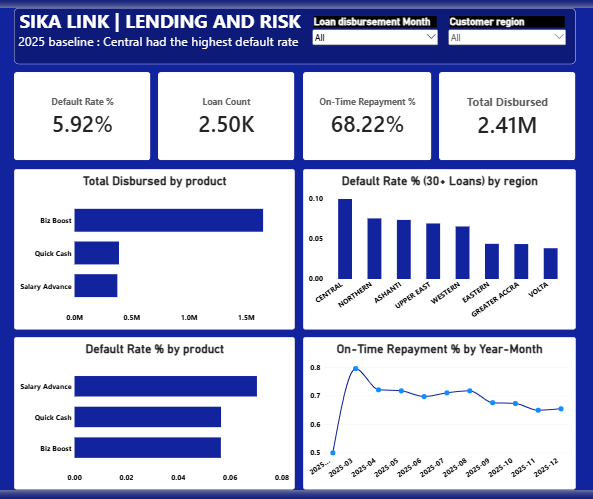

Layout of this report page (visuals, bound fields, positions):
{"tool":"powerbi","page":{"name":"LENDING AND RISK","canvas":[2560,1440],"ordinal":1},"visuals":[{"type":"cardVisual","fields":{"Data":["SikaLink_Measures.Default Rate %"]},"box":[360,192,408,264],"z":0,"group":"g1"},{"type":"cardVisual","fields":{"Data":["SikaLink_Measures.Total Disbursed"]},"box":[1632,192,408,264],"z":1000,"group":"g1"},{"type":"cardVisual","fields":{"Data":["SikaLink_Measures.On-Time Repayment %"]},"box":[1224,192,384,264],"z":2000,"group":"g1"},{"type":"cardVisual","fields":{"Data":["SikaLink_Measures.Loan Count"]},"box":[792,192,408,264],"z":3000,"group":"g1"},{"type":"barChart","fields":{"Category":["loans.product"],"Y":["SikaLink_Measures.Total Disbursed"]},"box":[360,480,840,480],"z":4000,"group":"g1"},{"type":"clusteredColumnChart","fields":{"Category":["customers.region"],"Y":["SikaLink_Measures.Default Rate % (30+ Loans)"]},"box":[1224,480,816,480],"z":5000,"group":"g1"},{"type":"barChart","fields":{"Category":["loans.product"],"Y":["SikaLink_Measures.Default Rate %"]},"box":[360,984,840,456],"z":6000,"group":"g1"},{"type":"lineChart","fields":{"Category":["RepaymentCalendar.Year-Month"],"Y":["SikaLink_Measures.On-Time Repayment %"]},"box":[1224,984,816,456],"z":7000,"group":"g1"},{"type":"group","id":"g1","title":"Group 1","box":[360,0,1680,1440],"z":9002},{"type":"textbox","box":[360,0,1680,168],"z":10000,"group":"g1"},{"type":"slicer","fields":{"Values":["Calendar.Year-Month"]},"box":[1248,24,384,120],"z":10500,"group":"g1"},{"type":"slicer","fields":{"Values":["customers.region"]},"box":[1656,24,360,120],"z":11000,"group":"g1"}]}

Visuals, with their boxes on the page's 2560x1440 design canvas (x1, y1, x2, y2). These are canvas units, not pixel positions in the 593x499 screenshot, which may show the page scaled, cropped or inside an application window:
cardVisual - SikaLink_Measures.Default Rate %: detection(360, 192, 768, 456)
cardVisual - SikaLink_Measures.Total Disbursed: detection(1632, 192, 2040, 456)
cardVisual - SikaLink_Measures.On-Time Repayment %: detection(1224, 192, 1608, 456)
cardVisual - SikaLink_Measures.Loan Count: detection(792, 192, 1200, 456)
barChart - loans.product x SikaLink_Measures.Total Disbursed: detection(360, 480, 1200, 960)
clusteredColumnChart - customers.region x SikaLink_Measures.Default Rate % (30+ Loans): detection(1224, 480, 2040, 960)
barChart - loans.product x SikaLink_Measures.Default Rate %: detection(360, 984, 1200, 1440)
lineChart - RepaymentCalendar.Year-Month x SikaLink_Measures.On-Time Repayment %: detection(1224, 984, 2040, 1440)
"Group 1" group: detection(360, 0, 2040, 1440)
textbox: detection(360, 0, 2040, 168)
slicer - Calendar.Year-Month: detection(1248, 24, 1632, 144)
slicer - customers.region: detection(1656, 24, 2016, 144)
